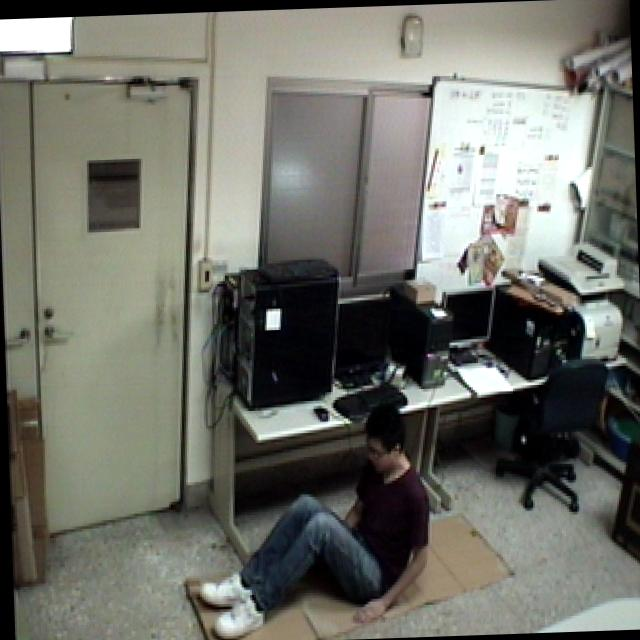sit: (182, 394, 443, 640)
